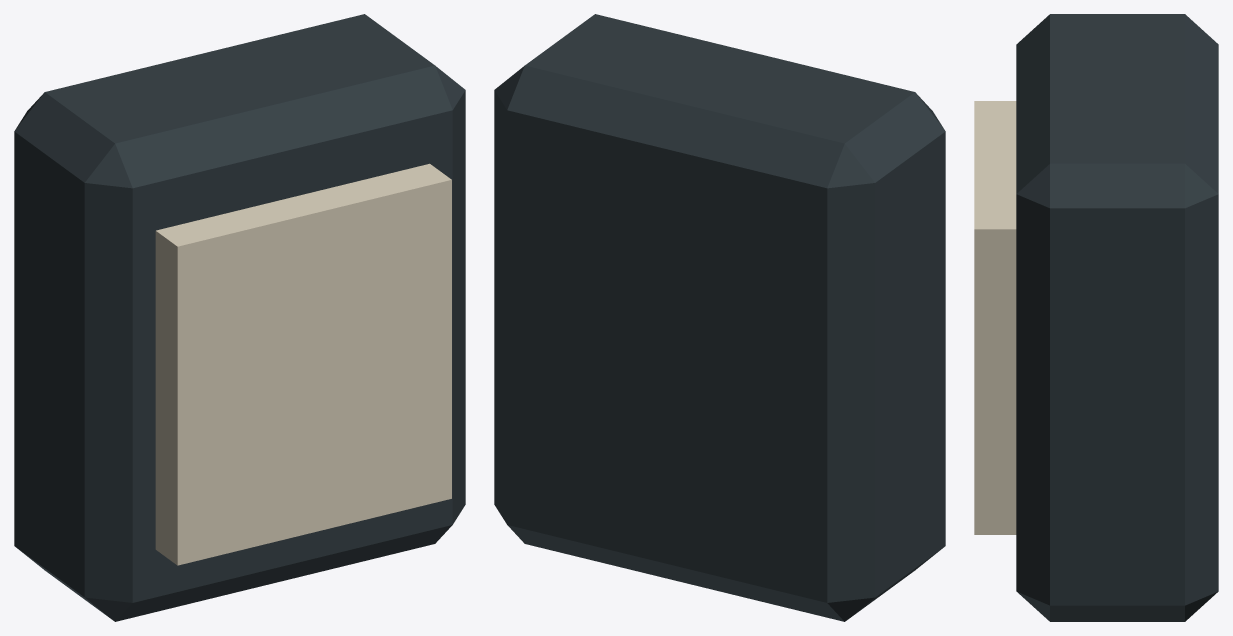
Rendered from wall_lamp.glb.
3 views of the same model, side by side, from view 1: azimuth 30°, elevation 25°; view 2: azimuth 150°, elevation 25°; view 3: azimuth 270°, elevation 25° (orthographic). The views are drawn at different scales.
Visible parts, largest first — view 1: wall_lamp; view 2: wall_lamp; view 3: wall_lamp.
Boxes of the visible parts, x1,y1,x2,y2 form: wall_lamp: (14,14,465,621); wall_lamp: (494,14,945,621); wall_lamp: (974,14,1218,621).
Bounding box in the file's own units: 0.25 × 0.3 × 0.145.
